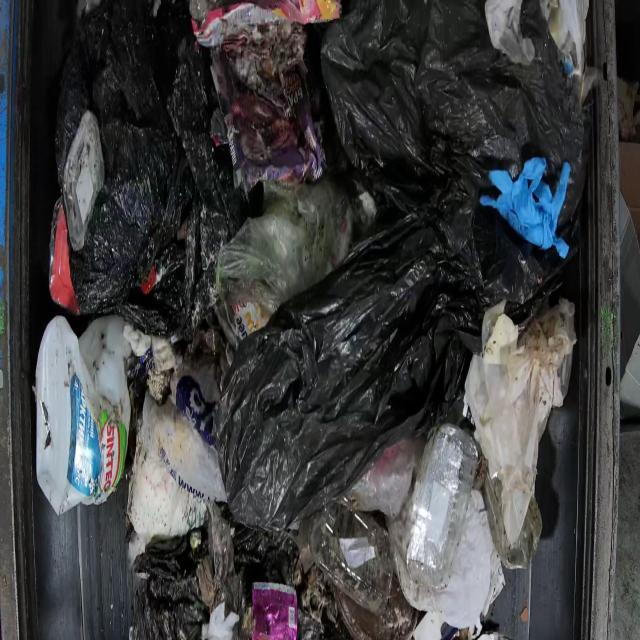trashbin: (13, 0, 621, 639)
